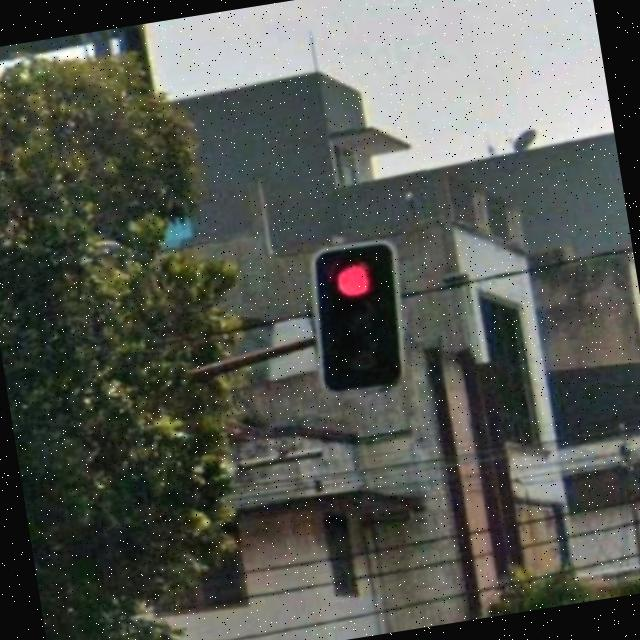Czerwone swiatlo: (314, 240, 404, 390)
